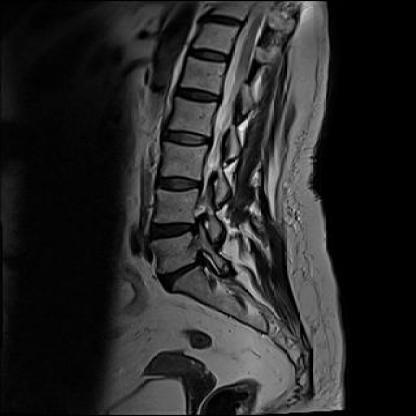Disc Bulgerotation: (153, 220, 197, 242), (156, 263, 208, 281)
